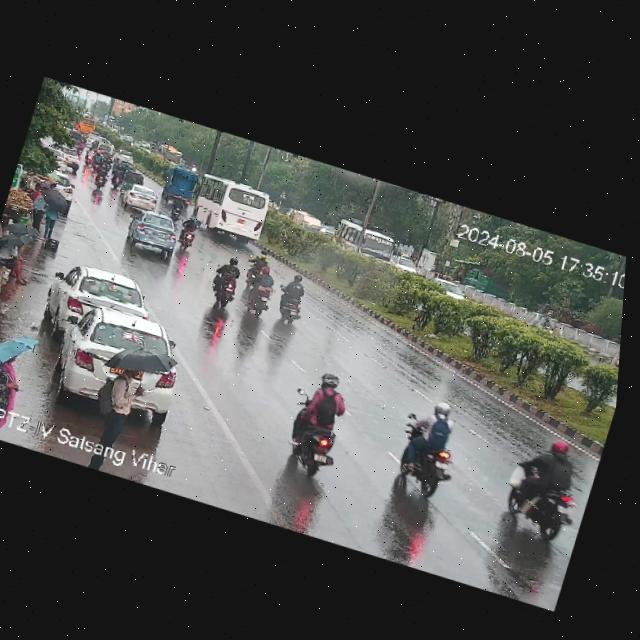bus: (186, 173, 277, 249), (332, 216, 399, 267), (154, 142, 184, 167), (72, 112, 98, 133)
car: (24, 292, 197, 434), (44, 257, 156, 343), (122, 205, 188, 261), (114, 179, 163, 214), (425, 274, 468, 303), (390, 255, 421, 277), (114, 148, 141, 168), (93, 138, 117, 159), (122, 168, 146, 187)
motorcycle: (387, 390, 475, 507), (280, 366, 360, 480), (492, 457, 585, 548), (204, 251, 247, 309), (278, 277, 316, 332), (243, 262, 278, 318), (171, 209, 204, 250), (89, 163, 112, 191), (538, 313, 559, 337), (109, 164, 126, 189)
person: (89, 356, 155, 444), (23, 181, 70, 241), (0, 225, 43, 285), (0, 347, 29, 427)
truck: (159, 163, 200, 208), (289, 207, 324, 234)
